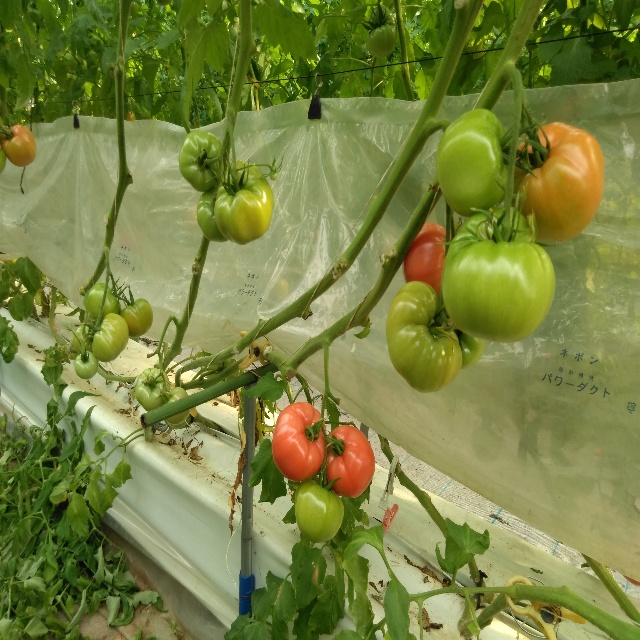b_fully_ripened: (271, 401, 326, 482), (403, 224, 454, 308), (323, 425, 376, 498)
b_green: (442, 206, 557, 343), (385, 281, 463, 393), (436, 109, 511, 217), (214, 160, 274, 246), (295, 478, 344, 543), (178, 131, 225, 193), (197, 185, 229, 243), (92, 314, 129, 363), (366, 4, 397, 58), (451, 323, 485, 369), (85, 282, 121, 325), (135, 368, 170, 412), (119, 298, 153, 338), (164, 387, 190, 425), (73, 322, 99, 355), (74, 351, 99, 380), (270, 170, 278, 181)
b_half_ripened: (510, 122, 605, 243), (1, 123, 38, 168)
